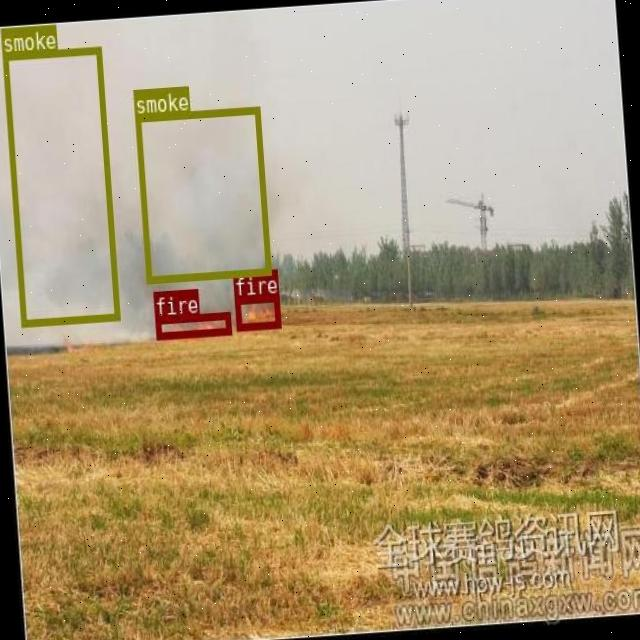fire: (154, 312, 230, 338), (233, 293, 279, 329)
smoke: (2, 46, 118, 325), (133, 105, 270, 282)
